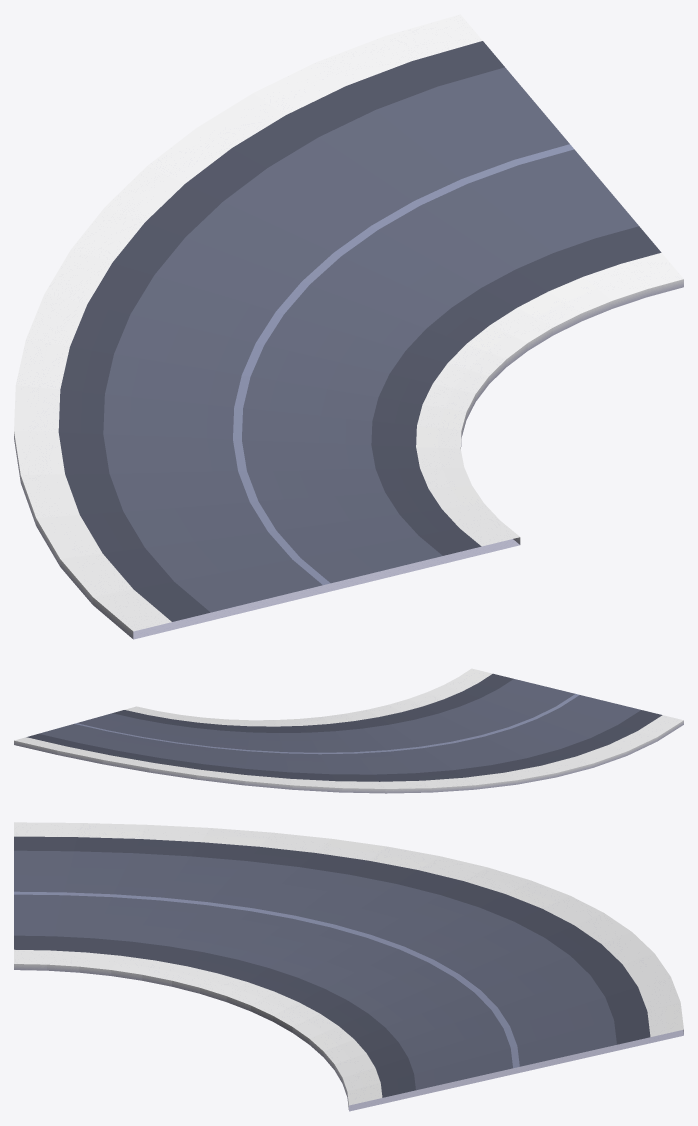
File: road-Turn-Flat-HalfBankedRight-Even-Right-Size2.glb
The picture shows the model from 3 angles, top to bottom: view 1: azimuth 30°, elevation 25°; view 2: azimuth 150°, elevation 25°; view 3: azimuth 270°, elevation 25°; orthographic projection. The views are drawn at different scales.
Parts seen in each view (by area): view 1: road-Turn-Flat-HalfBankedRight-Even-Right-Size2; view 2: road-Turn-Flat-HalfBankedRight-Even-Right-Size2; view 3: road-Turn-Flat-HalfBankedRight-Even-Right-Size2.
Part boxes in pixels (x1,y1,x2,y2): road-Turn-Flat-HalfBankedRight-Even-Right-Size2: [14, 14, 683, 639]; road-Turn-Flat-HalfBankedRight-Even-Right-Size2: [14, 668, 683, 793]; road-Turn-Flat-HalfBankedRight-Even-Right-Size2: [14, 822, 683, 1111].
Bounding box in the file's own units: 2 × 0.27 × 2.
1 material, 1 textured.
